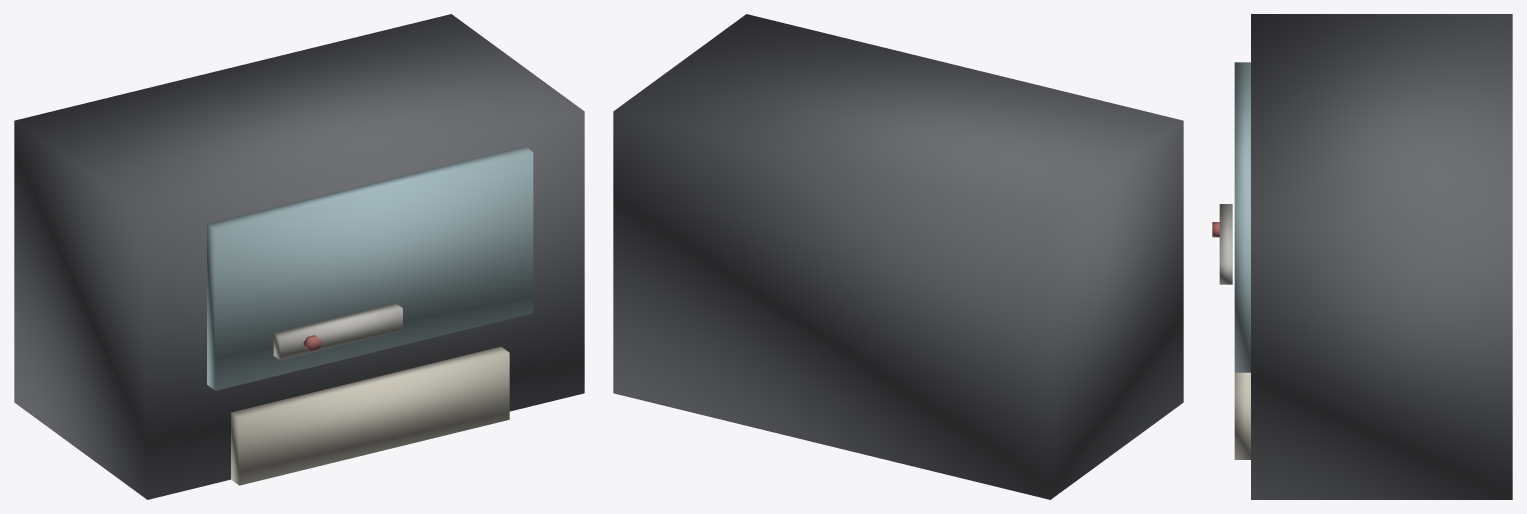
Rendered from microfilm_reader__wide.glb.
The picture shows the model from 3 angles, left to right: view 1: azimuth 30°, elevation 25°; view 2: azimuth 150°, elevation 25°; view 3: azimuth 270°, elevation 25°; orthographic projection.
Parts seen in each view (by area): view 1: world; view 2: world; view 3: world.
Boxes of the visible parts, box(x1,y1,x2,y2) form: world: box(14, 14, 584, 499); world: box(613, 14, 1183, 499); world: box(1212, 14, 1512, 499).
Bounding box in the file's own units: 0.682 × 0.42 × 0.4135.
